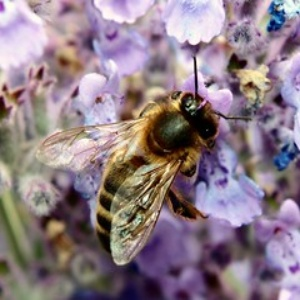bee: (36, 53, 256, 272)
